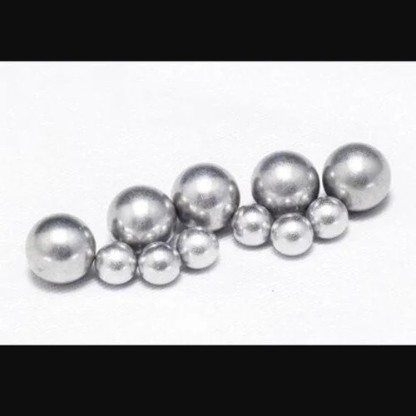ironball: (24, 212, 95, 283), (321, 140, 391, 212), (170, 161, 239, 232), (250, 148, 319, 216), (105, 183, 176, 249), (136, 240, 181, 285), (305, 194, 348, 239), (269, 211, 312, 256), (175, 225, 218, 269), (93, 240, 136, 284), (230, 202, 272, 246)
